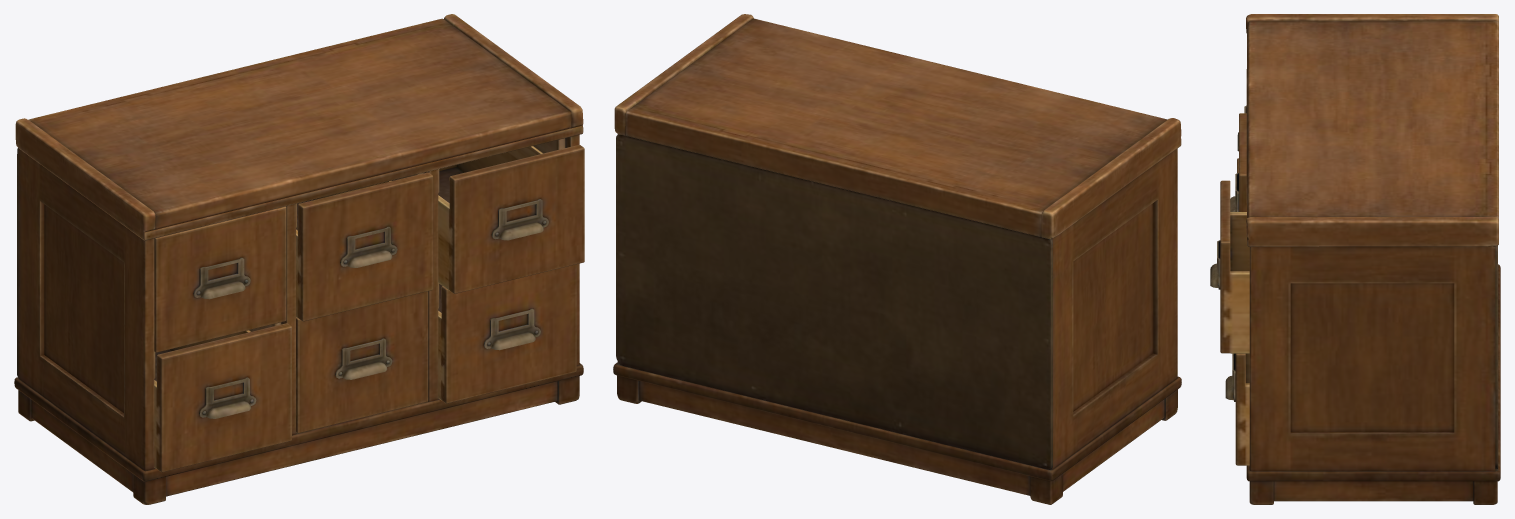
3 views of the same model, side by side, from view 1: azimuth 30°, elevation 25°; view 2: azimuth 150°, elevation 25°; view 3: azimuth 270°, elevation 25° (orthographic). The views are drawn at different scales.
Visible parts, largest first — view 1: vintage_wooden_drawer_01_body; view 2: vintage_wooden_drawer_01_body; view 3: vintage_wooden_drawer_01_body.
Part boxes in pixels (<box>): vintage_wooden_drawer_01_body: <box>14,14,584,504</box>; vintage_wooden_drawer_01_body: <box>613,14,1181,504</box>; vintage_wooden_drawer_01_body: <box>1210,14,1500,504</box>.
Bounding box in the file's own units: 1.72 × 1.09 × 1.01.
Materials: 1 (1 with a texture image).
